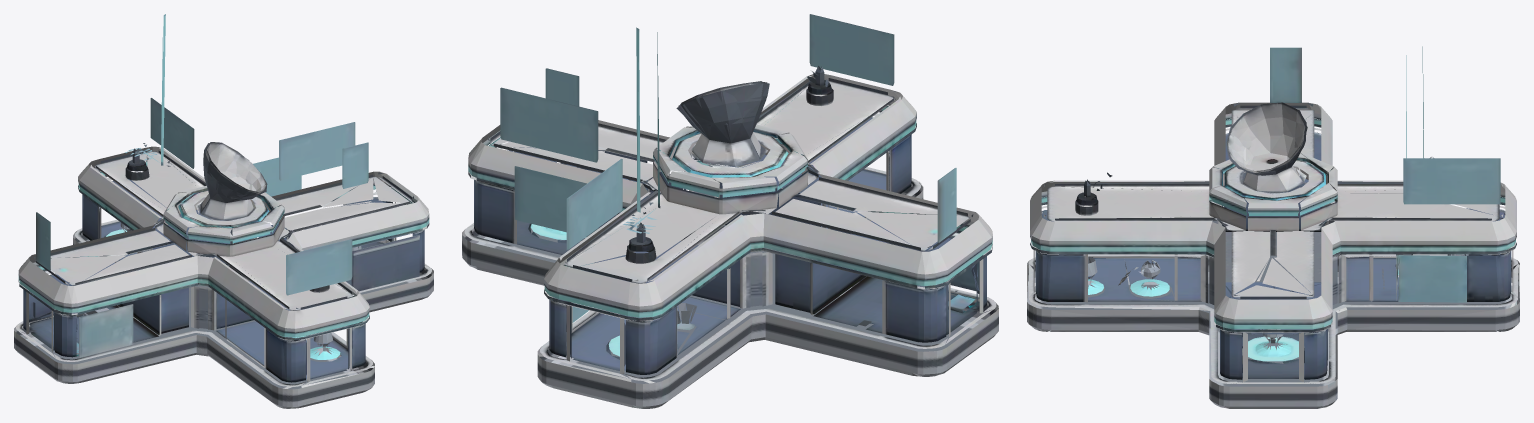
File: tech_center_LOD2.glb
The picture shows the model from 3 angles, left to right: view 1: azimuth 30°, elevation 25°; view 2: azimuth 150°, elevation 25°; view 3: azimuth 270°, elevation 25°; orthographic projection. The views are drawn at different scales.
Parts seen in each view (by area): view 1: tech_center_LOD2; view 2: tech_center_LOD2; view 3: tech_center_LOD2.
Boxes of the visible parts, x1=… form: tech_center_LOD2: x1=14, y1=14, x2=433, y2=408; tech_center_LOD2: x1=462, y1=14, x2=998, y2=408; tech_center_LOD2: x1=1027, y1=46, x2=1519, y2=408.
Bounding box in the file's own units: 1 × 0.6516 × 1.
1 material, 1 textured.
